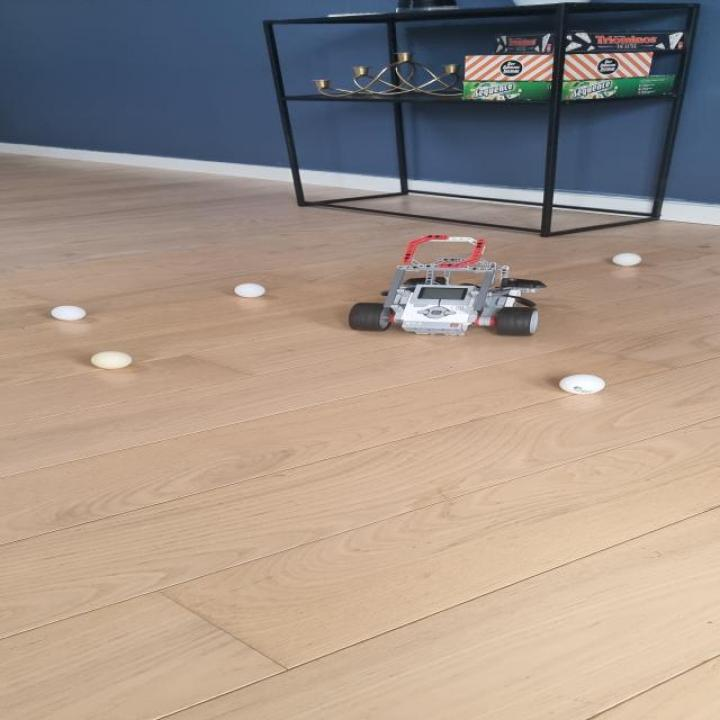robot: (348, 235, 548, 337)
white: (560, 374, 606, 394), (91, 351, 132, 369), (52, 306, 86, 322), (235, 284, 266, 298), (611, 254, 642, 266)
